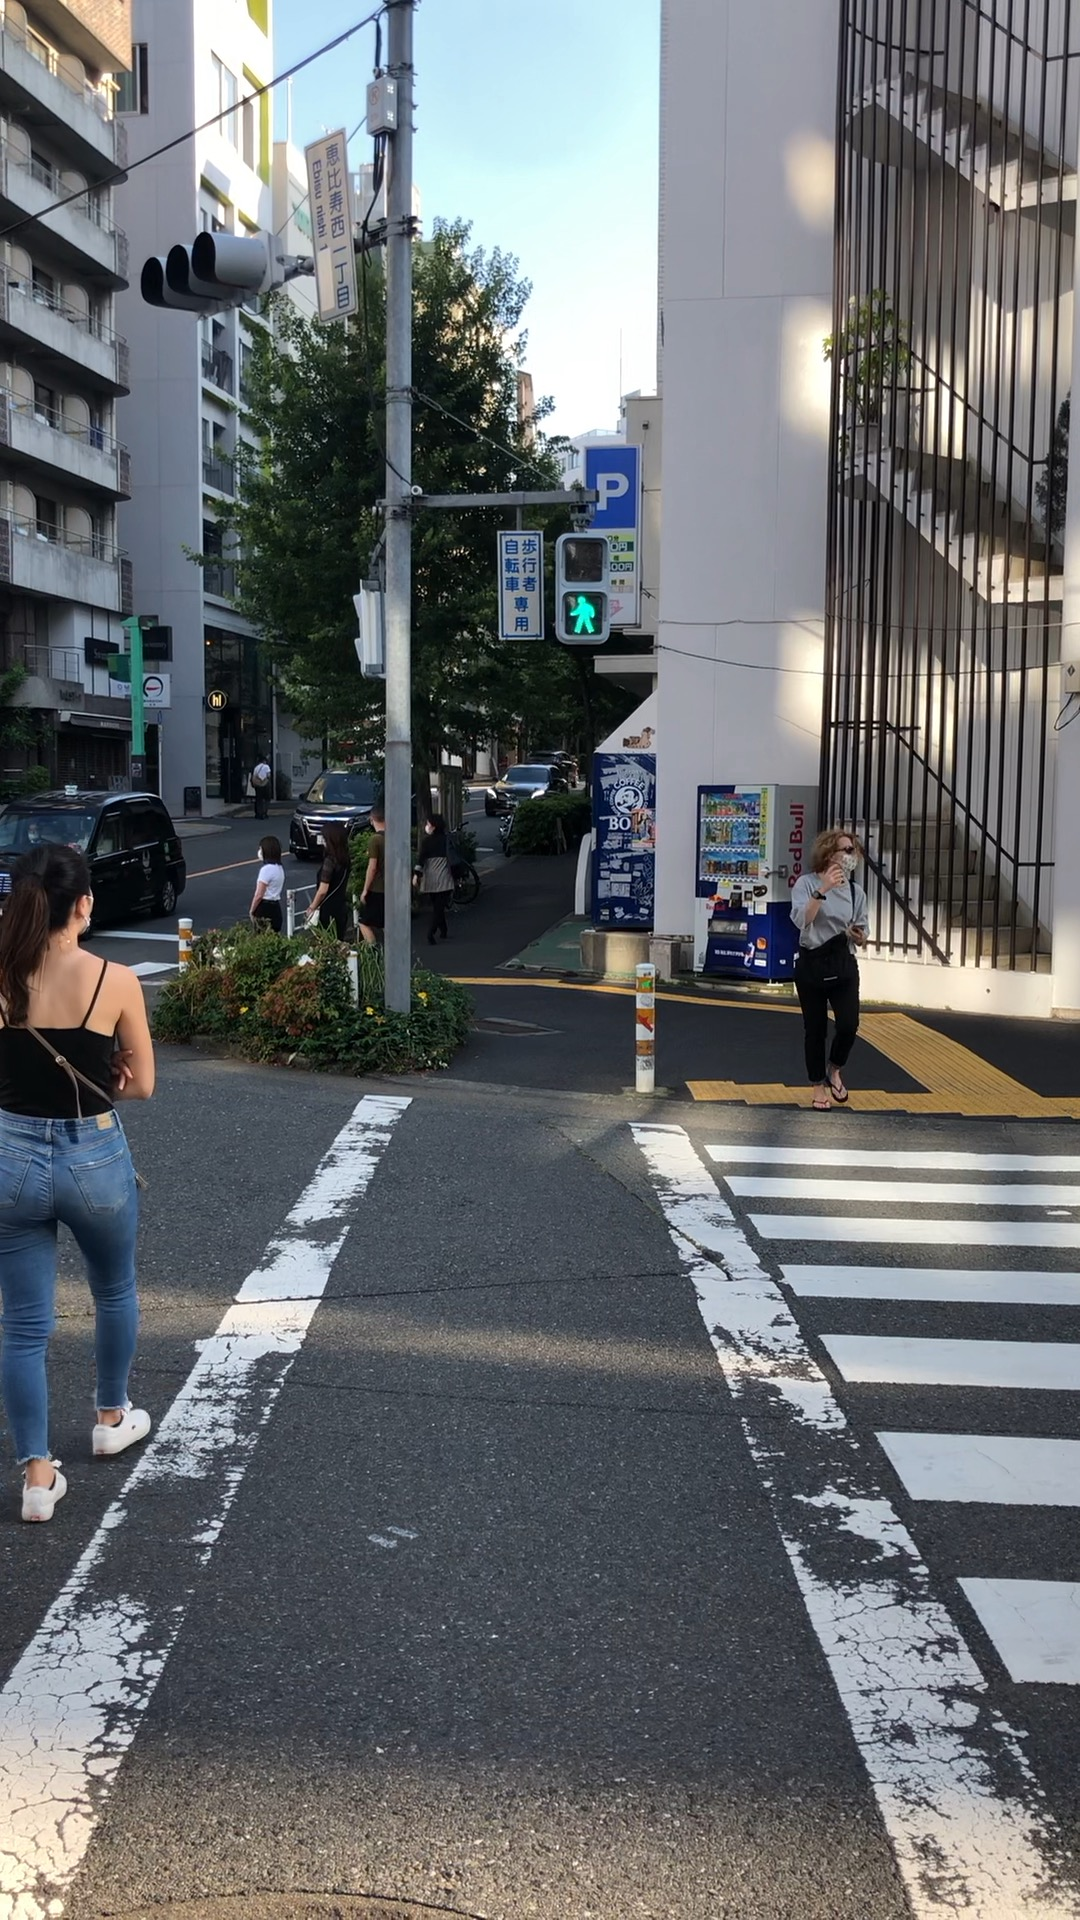green: (551, 531, 609, 644)
